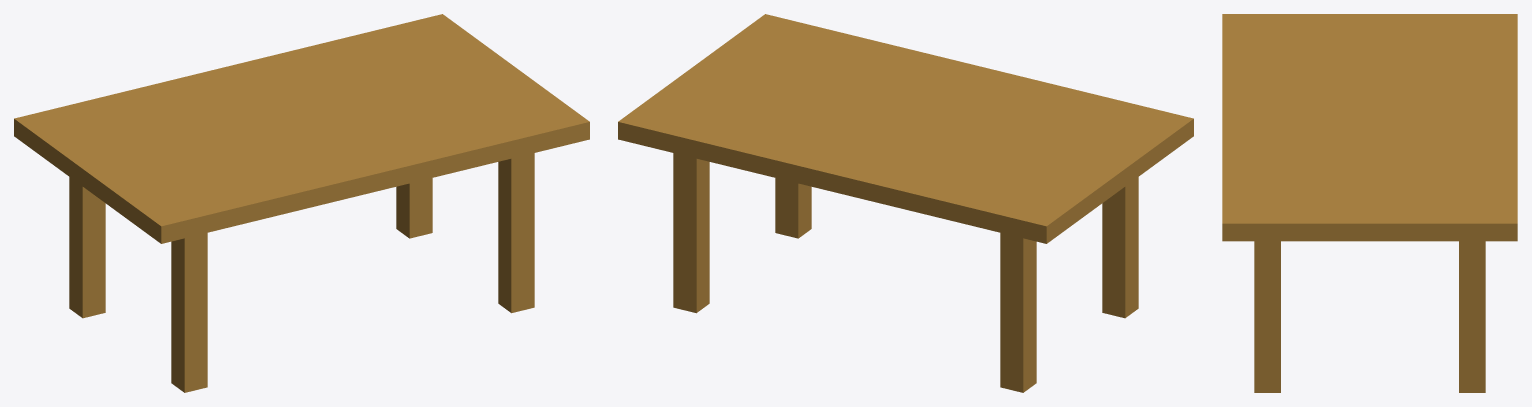
The model's file is Table.glb.
3 views of the same model, side by side, from view 1: azimuth 30°, elevation 25°; view 2: azimuth 150°, elevation 25°; view 3: azimuth 270°, elevation 25° (orthographic).
Parts seen in each view (by area): view 1: Top, Legs; view 2: Top, Legs; view 3: Top, Legs.
Boxes of the visible parts, bbox=[...] form: Top: bbox=[14, 14, 589, 243]; Legs: bbox=[69, 153, 534, 392]; Top: bbox=[618, 14, 1193, 243]; Legs: bbox=[673, 153, 1138, 392]; Top: bbox=[1222, 14, 1517, 241]; Legs: bbox=[1254, 241, 1485, 392].
Size of the model in its own units: 7.28 by 3.05 by 4.33.
